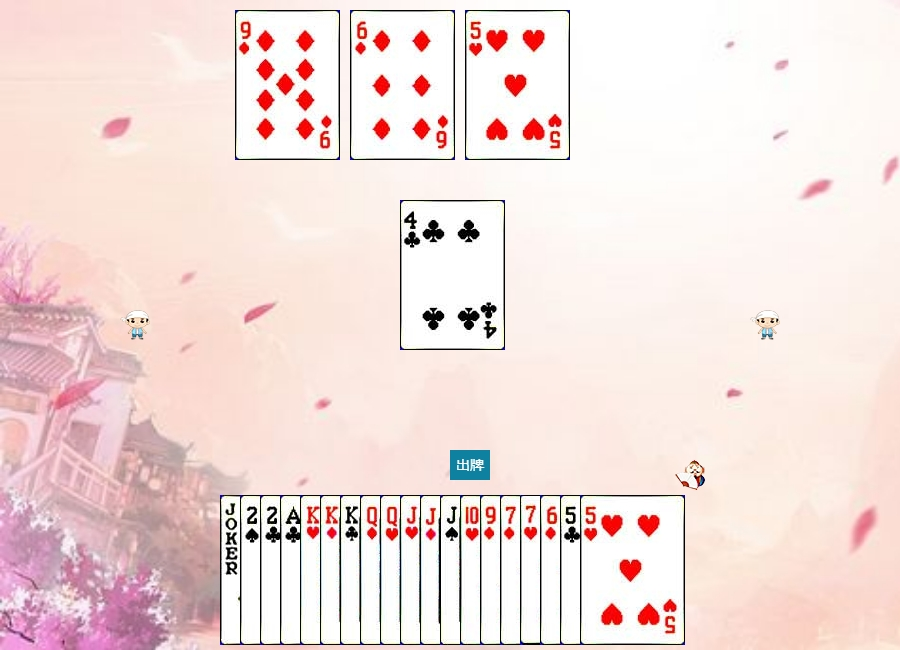10~3: (460, 495, 565, 645)
11~1: (420, 495, 525, 645)
11~3: (400, 495, 505, 645)
11~4: (440, 495, 545, 645)
12~1: (360, 495, 465, 645)
12~3: (380, 495, 485, 645)
13~1: (320, 495, 425, 645)
13~2: (340, 495, 445, 645)
13~3: (300, 495, 405, 645)
14~2: (280, 495, 385, 645)
15~2: (260, 495, 365, 645)
15~4: (240, 495, 345, 645)
17~3: (220, 495, 325, 645)
4~2: (400, 200, 505, 350)
5~2: (560, 495, 665, 645)
5~3: (465, 10, 570, 160), (580, 495, 685, 645)
6~1: (350, 10, 455, 160), (540, 495, 645, 645)
7~1: (500, 495, 605, 645)
7~3: (520, 495, 625, 645)
9~1: (235, 10, 340, 160), (480, 495, 585, 645)
